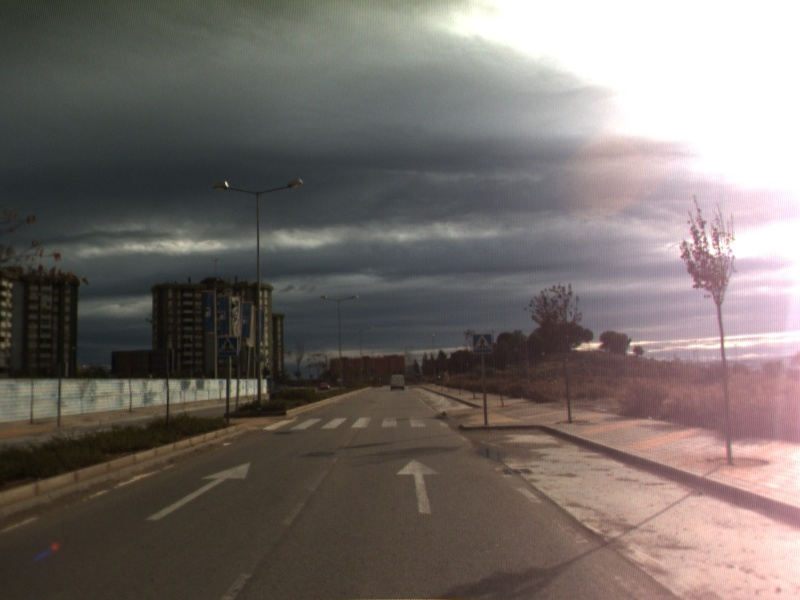STRAIGHT: (143, 460, 252, 522), (394, 457, 442, 515)
